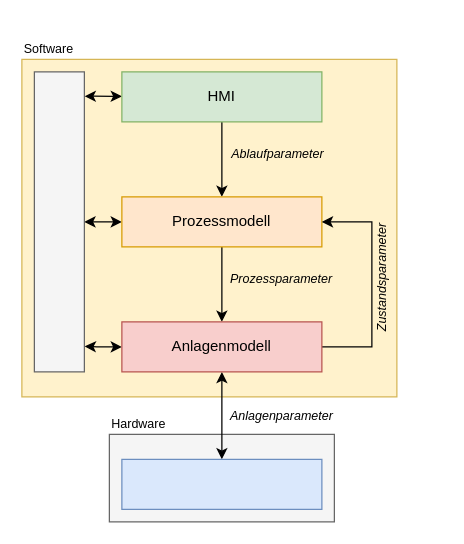
Some shapes in this 464 by 544 pixel diagram are drawn without their labels. The shapes that lost their labels are listed below. From the top down, each one's centre as x and y in pixels, then its label:
At point 58,221: "Systemparameter".
At point 221,483: "Anlage".
